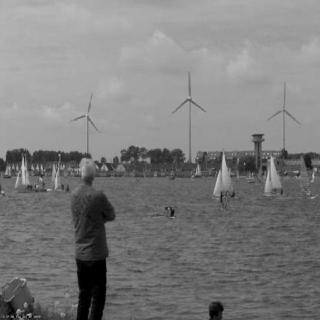other: (65, 182, 117, 260)
